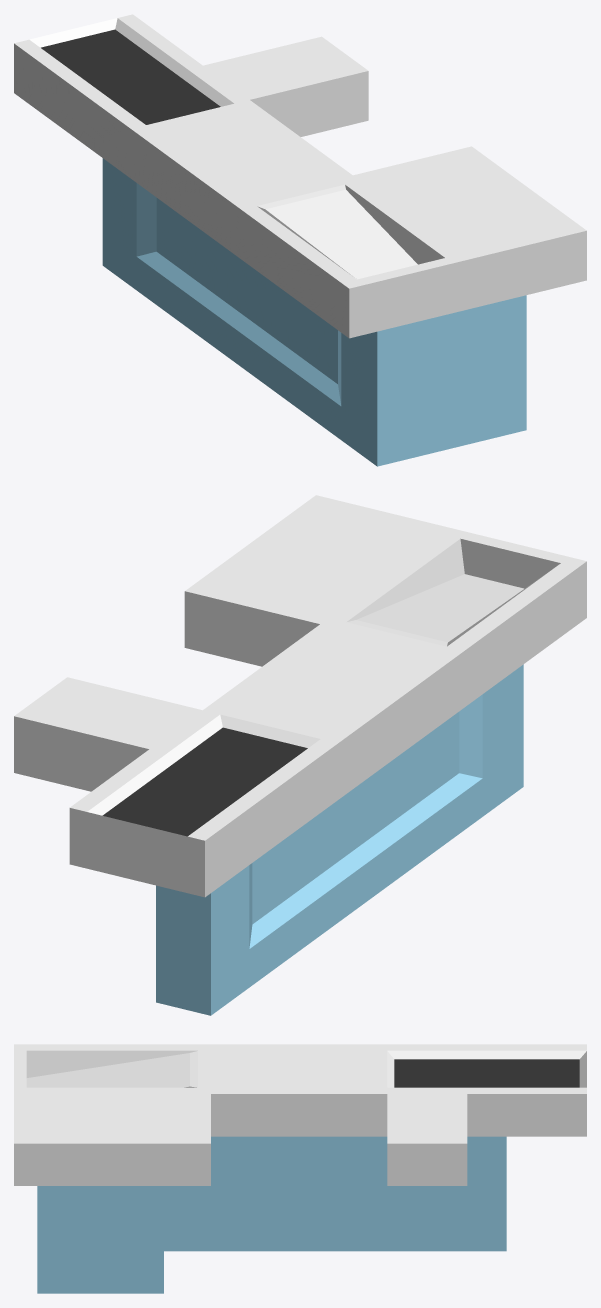
File: Table.fbx
3 views of the same model, one above another, from view 1: azimuth 30°, elevation 25°; view 2: azimuth 150°, elevation 25°; view 3: azimuth 270°, elevation 25° (orthographic). The views are drawn at different scales.
Parts seen in each view (by area): view 1: Table; view 2: Table; view 3: Table.
Part boxes in pixels (x1=…): Table: x1=14, y1=14, x2=586, y2=466; Table: x1=14, y1=495, x2=586, y2=1015; Table: x1=14, y1=1044, x2=586, y2=1293.
Bounding box in the file's own units: 0.95 × 2.32 × 0.7567.
